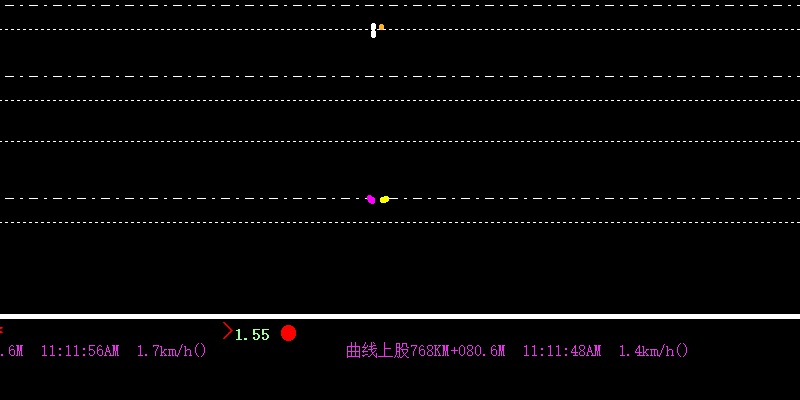circle: (276, 322, 299, 342)
face_1: (369, 21, 376, 39)
